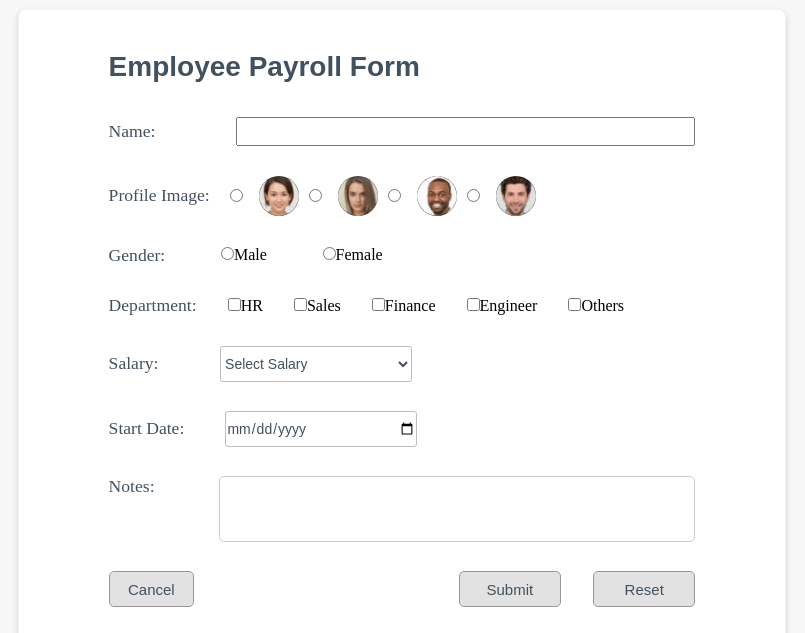
Test: Employee Registration Testing › resets the form when reset button is clicked
In the field labelled "Name:": (465, 132) [236, 117, 695, 146], type "John Doe"
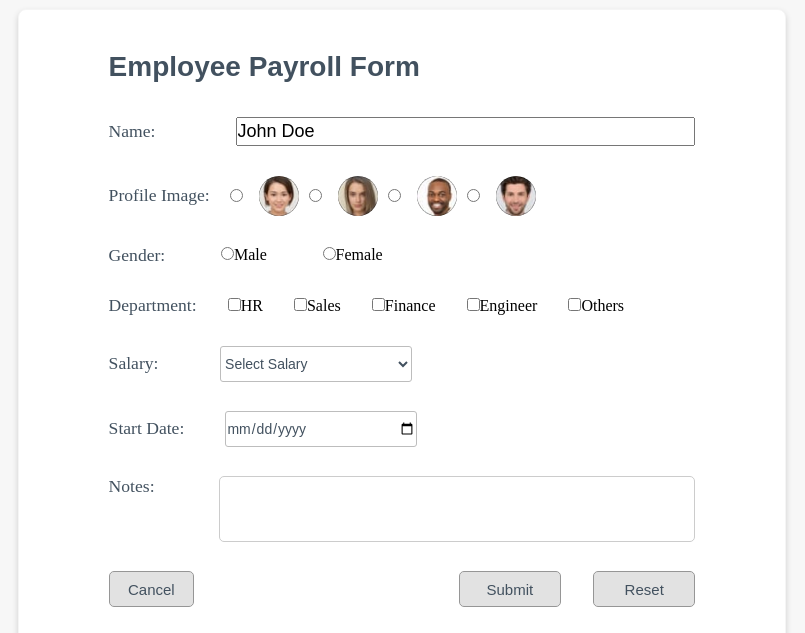
Click the button "Reset": (644, 590) [593, 572, 695, 608]
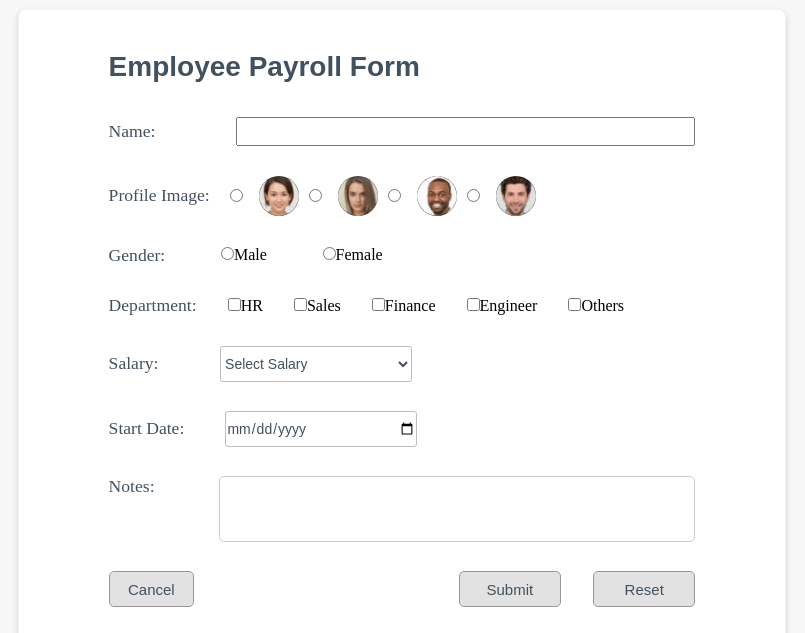
Expected: the field labelled "Name:" is empty, [236, 117, 695, 146]
